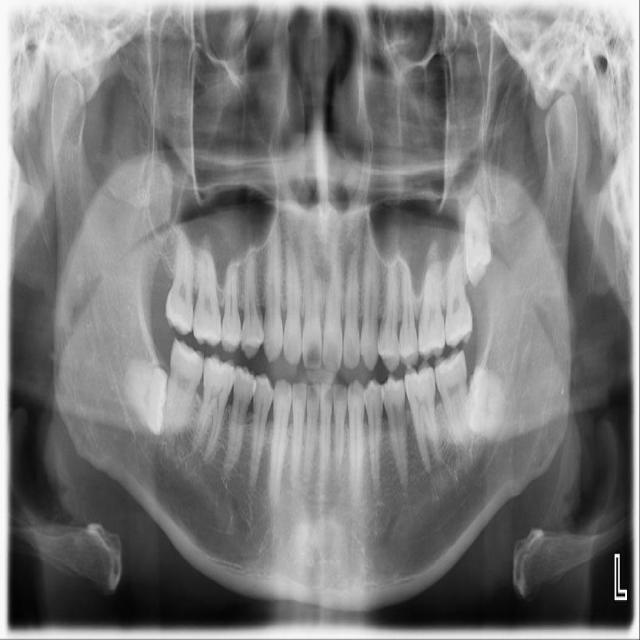impacted tooth: (118, 361, 168, 435), (463, 366, 510, 437), (465, 196, 494, 287)
